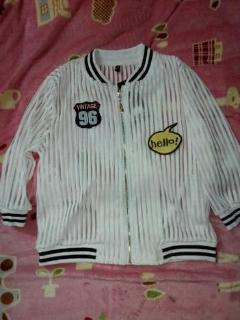long sleeve top: (0, 42, 239, 266)
